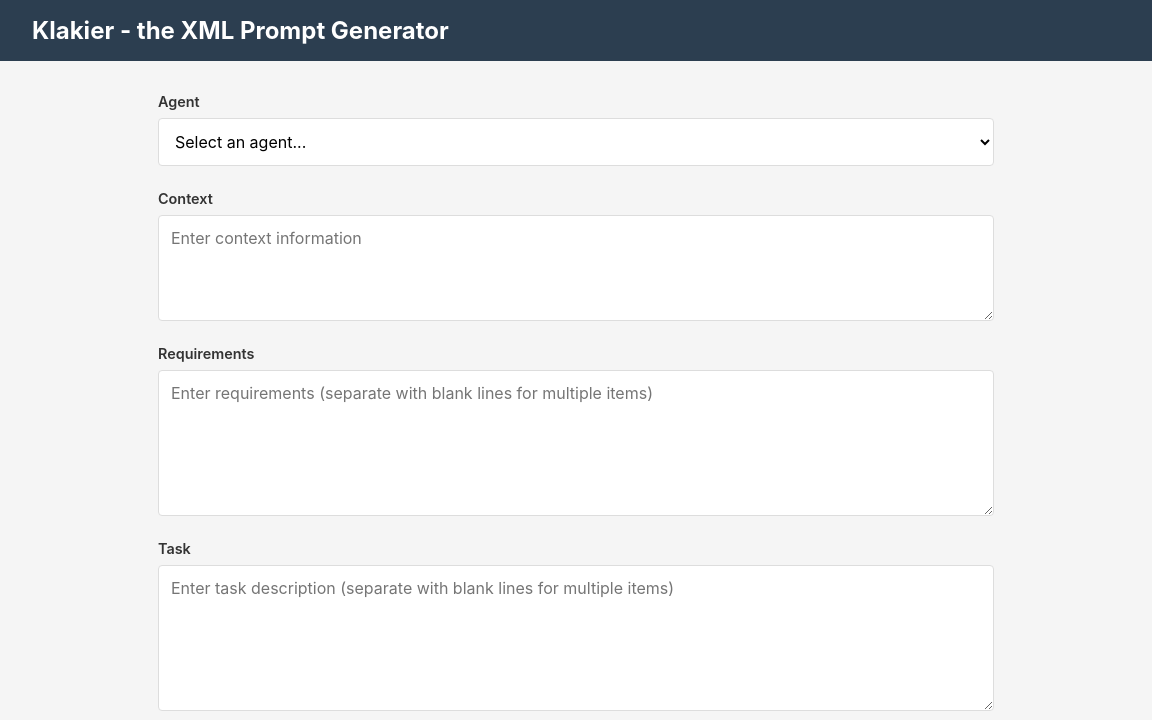
Test: App › updates XML output when typing requirements
The image size is (1152, 720).
In the text box labelled "Requirements": (576, 443) [158,370,994,516], type "UniqueRequirement"
(page scrolled)
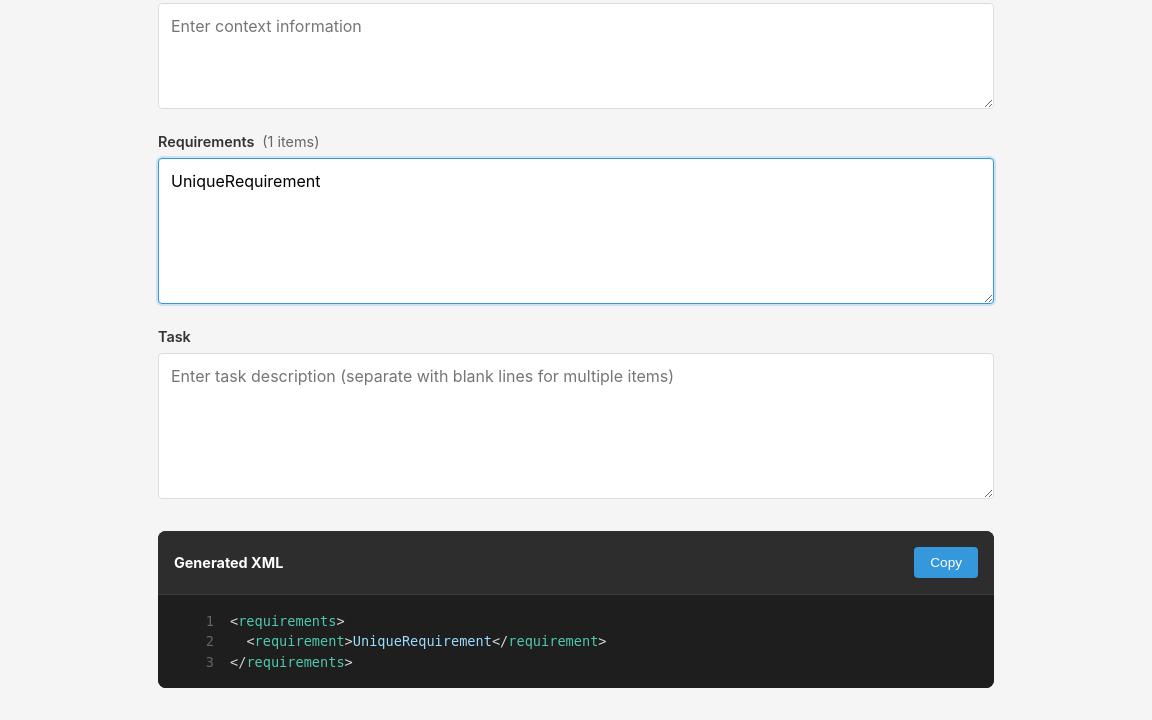
Expected: the element with class "output-panel" shows "UniqueRequirement", [353,633,492,649]
